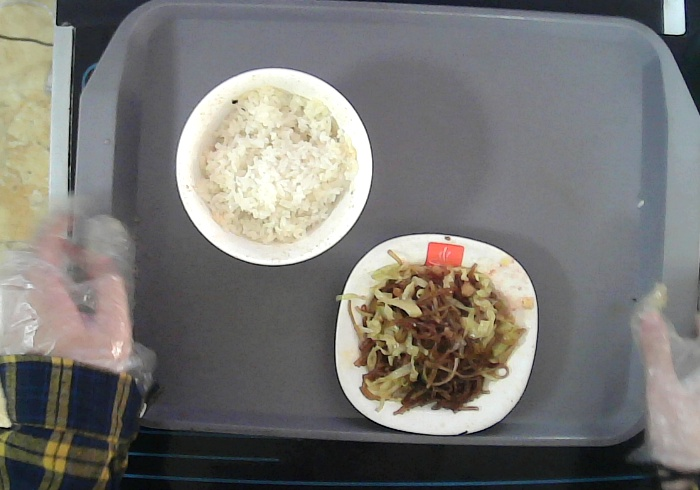SHKJ-Bai_Se_Si_Fang_Cai_Die: (331, 229, 540, 437)
SHKJ-Fan_Wan: (173, 66, 375, 267)
